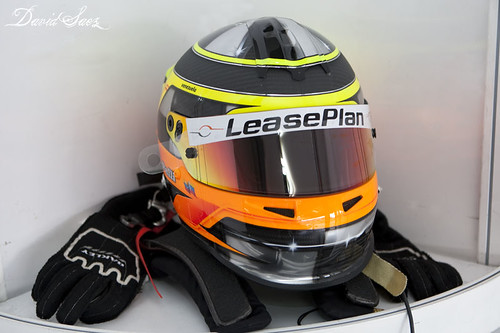helmet: (157, 6, 384, 290)
